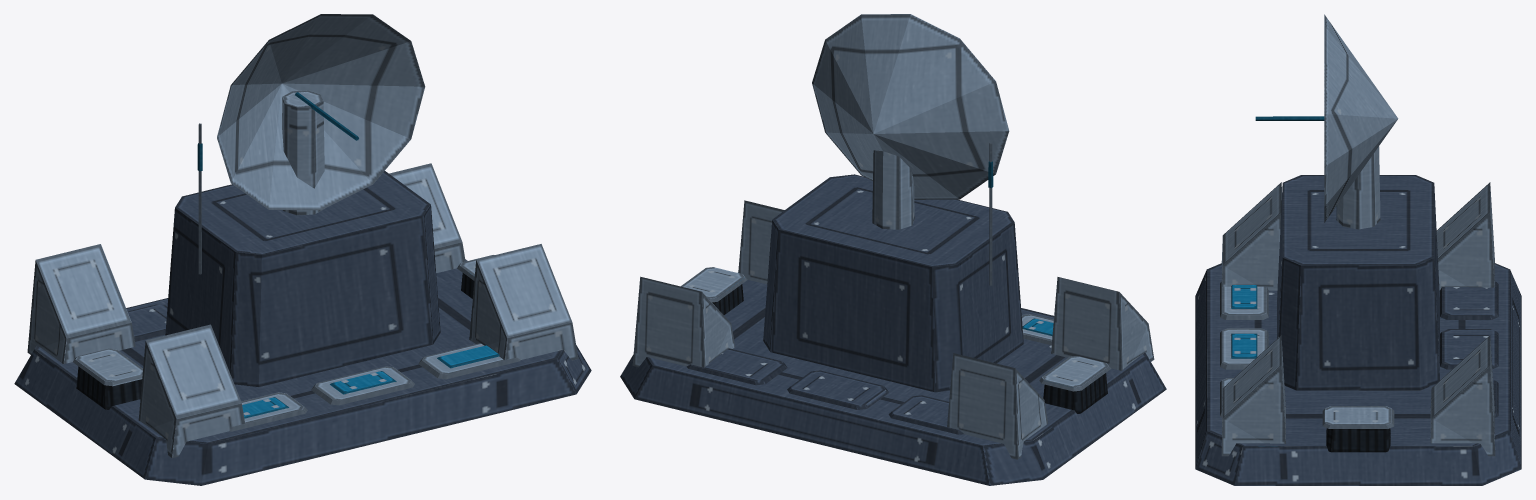
The model's file is building-phased_radar.fbx.
3 renders of one model, left to right at view 1: azimuth 30°, elevation 25°; view 2: azimuth 150°, elevation 25°; view 3: azimuth 270°, elevation 25°, orthographic. The views are drawn at different scales.
Parts seen in each view (by area): view 1: building-phased_radar; view 2: building-phased_radar; view 3: building-phased_radar.
Part boxes in pixels (box(x1,y1,x2,y2)): building-phased_radar: box(14, 14, 591, 485); building-phased_radar: box(620, 14, 1166, 485); building-phased_radar: box(1195, 14, 1521, 485).
Size of the model in its own units: 2184 by 1759 by 1456.
1 material, 1 textured.
